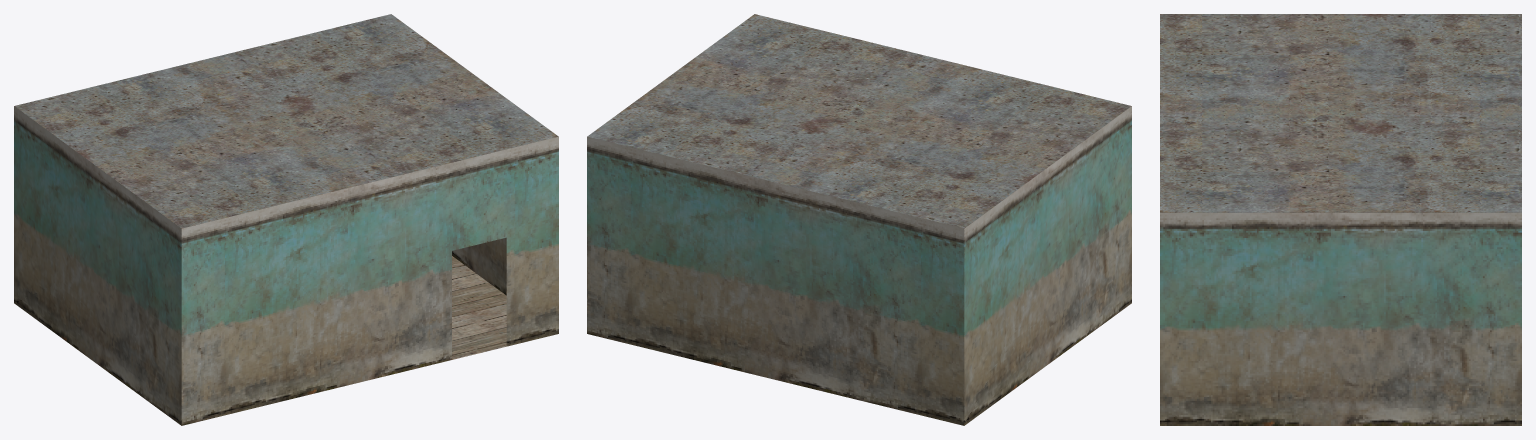
Rendered from _Classroom_1.FBX.
3 views of the same model, side by side, from view 1: azimuth 30°, elevation 25°; view 2: azimuth 150°, elevation 25°; view 3: azimuth 270°, elevation 25° (orthographic). The views are drawn at different scales.
Parts seen in each view (by area): view 1: _Classroom_1; view 2: _Classroom_1; view 3: _Classroom_1.
Boxes of the visible parts, x1,y1,x2,y2 form: _Classroom_1: (14, 14, 558, 425); _Classroom_1: (587, 14, 1131, 425); _Classroom_1: (1160, 14, 1521, 425).
Bounding box in the file's own units: 650 × 325 × 500.
Materials: 3 (3 with a texture image).
